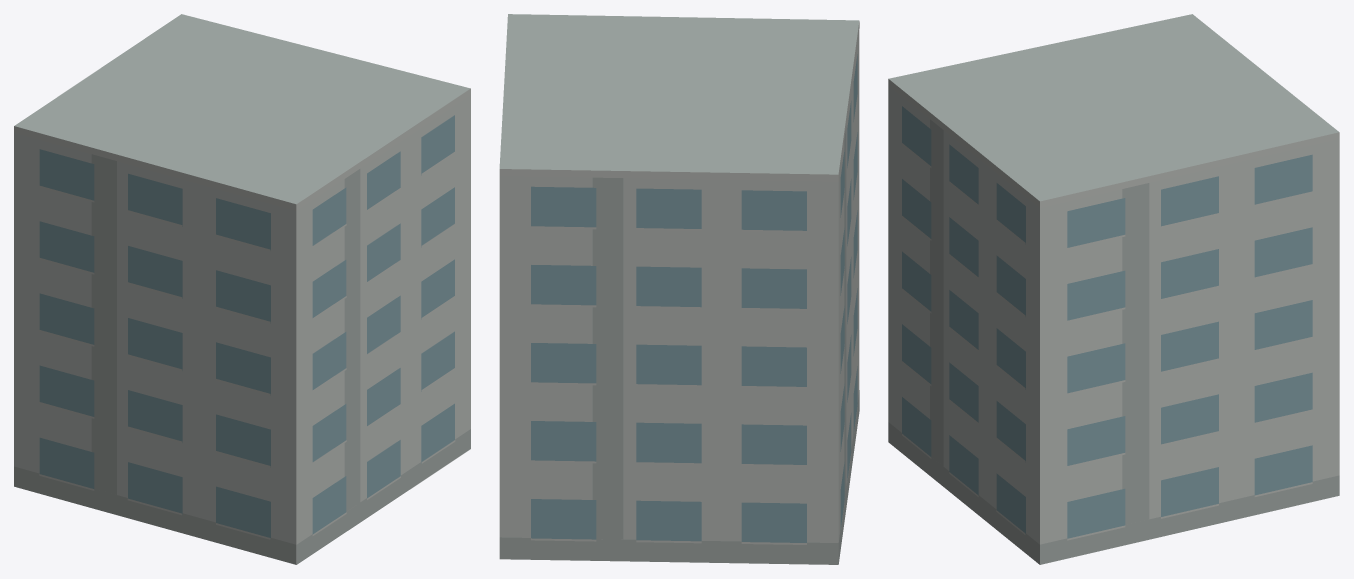
The model's file is survey-upis-32893319.glb.
3 views of the same model, side by side, from view 1: azimuth 30°, elevation 25°; view 2: azimuth 150°, elevation 25°; view 3: azimuth 270°, elevation 25° (orthographic). The views are drawn at different scales.
Visible parts, largest first — view 1: survey-upis-32893319.tmp; view 2: survey-upis-32893319.tmp; view 3: survey-upis-32893319.tmp.
Part boxes in pixels (box(x1,y1,x2,y2)): survey-upis-32893319.tmp: box(14, 14, 470, 564); survey-upis-32893319.tmp: box(499, 14, 859, 564); survey-upis-32893319.tmp: box(888, 14, 1339, 564).
Size of the model in its own units: 14.72 by 13.3 by 14.97.
